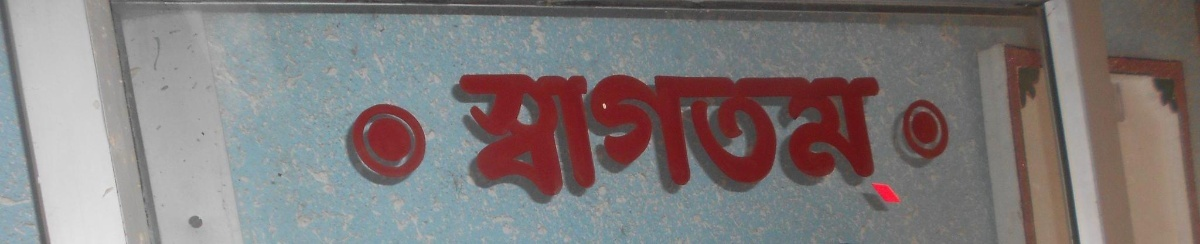text: (465, 71, 480, 218), (481, 71, 496, 218), (497, 71, 512, 218), (513, 71, 528, 218), (529, 71, 544, 218), (545, 71, 560, 218), (561, 71, 576, 218), (577, 71, 592, 218), (593, 71, 608, 218), (609, 71, 624, 218), (625, 71, 640, 218), (641, 71, 656, 218), (657, 71, 672, 218), (673, 71, 688, 218), (689, 71, 704, 218), (705, 71, 720, 218), (721, 71, 736, 218), (737, 71, 752, 218), (753, 71, 768, 218), (769, 71, 784, 218), (785, 71, 800, 218), (801, 71, 816, 218), (817, 71, 832, 218), (833, 71, 848, 218), (849, 71, 864, 218), (865, 71, 880, 218), (881, 71, 896, 218), (465, 72, 480, 206), (481, 72, 496, 206), (497, 72, 512, 206), (513, 72, 528, 206), (529, 72, 544, 206), (545, 72, 560, 206), (561, 72, 576, 206), (577, 72, 592, 206), (593, 72, 608, 206), (609, 72, 624, 206), (625, 72, 640, 206), (641, 72, 656, 206), (657, 72, 672, 206), (673, 72, 688, 206), (689, 72, 704, 206), (705, 72, 720, 206), (721, 72, 736, 206), (737, 72, 752, 206), (753, 72, 768, 206), (769, 72, 784, 206), (785, 72, 800, 206), (801, 72, 816, 206), (817, 72, 832, 206), (833, 72, 848, 206), (849, 72, 864, 206), (865, 72, 880, 206), (881, 72, 896, 206), (451, 71, 464, 218), (897, 72, 906, 206), (456, 72, 464, 206), (897, 71, 904, 218)
